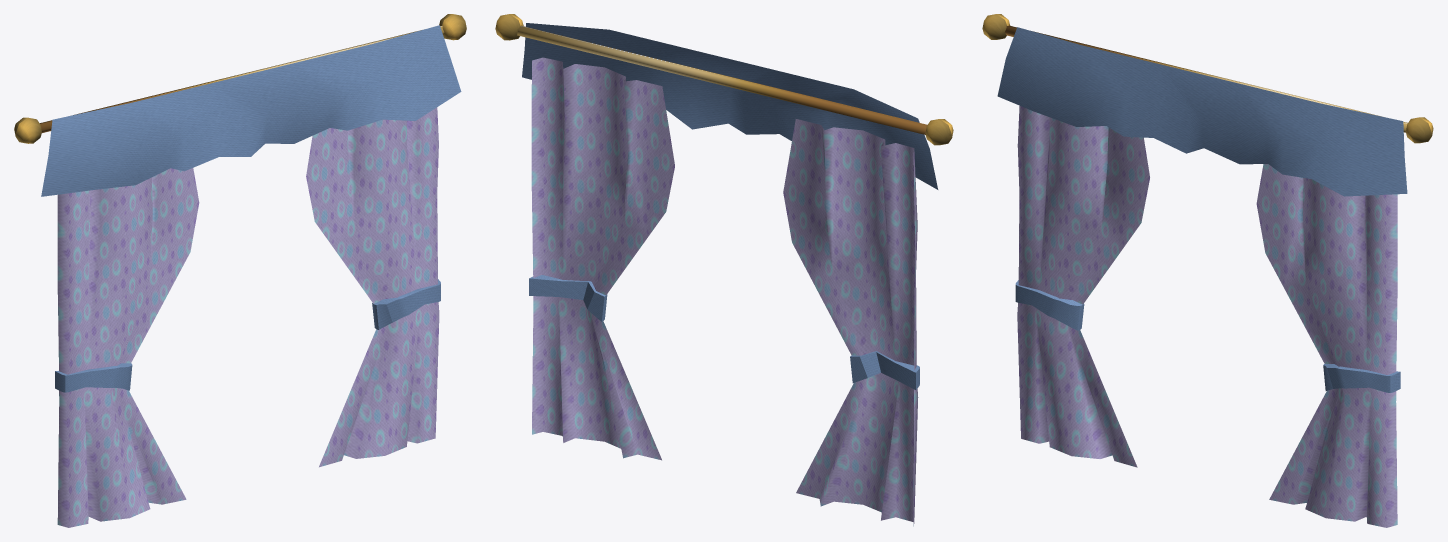
Rendered from Curtains_01_I.FBX.
3 renders of one model, left to right at view 1: azimuth 30°, elevation 25°; view 2: azimuth 150°, elevation 25°; view 3: azimuth 330°, elevation 25°, orthographic.
Visible parts, largest first — view 1: Curtains_01; view 2: Curtains_01; view 3: Curtains_01.
Boxes of the visible parts, left/top/right/bottom form: Curtains_01: left=14, top=14, right=466, bottom=527; Curtains_01: left=495, top=14, right=953, bottom=526; Curtains_01: left=982, top=14, right=1433, bottom=527.
Size of the model in its own units: 251 by 221 by 25.59.
